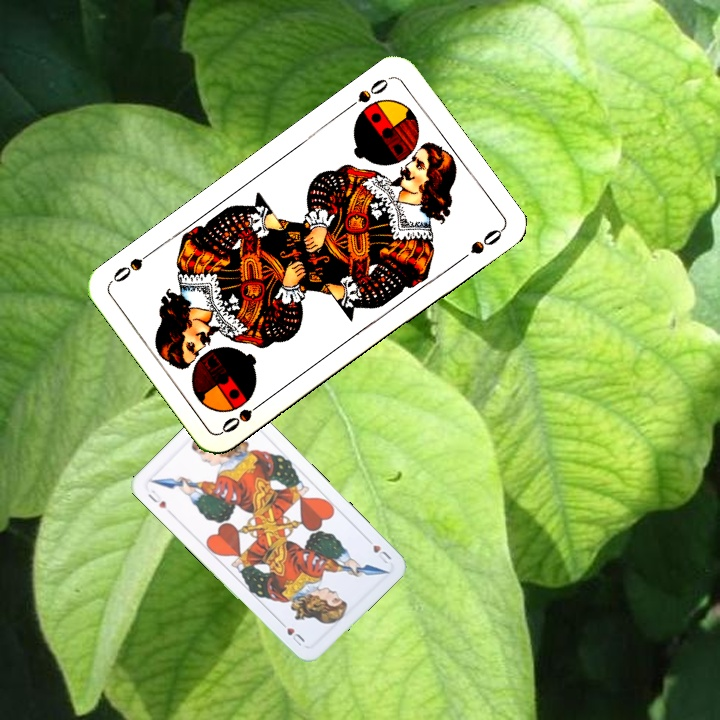HU: (361, 533, 394, 566), (143, 486, 170, 511)
SO: (217, 395, 269, 436), (342, 73, 393, 113)
